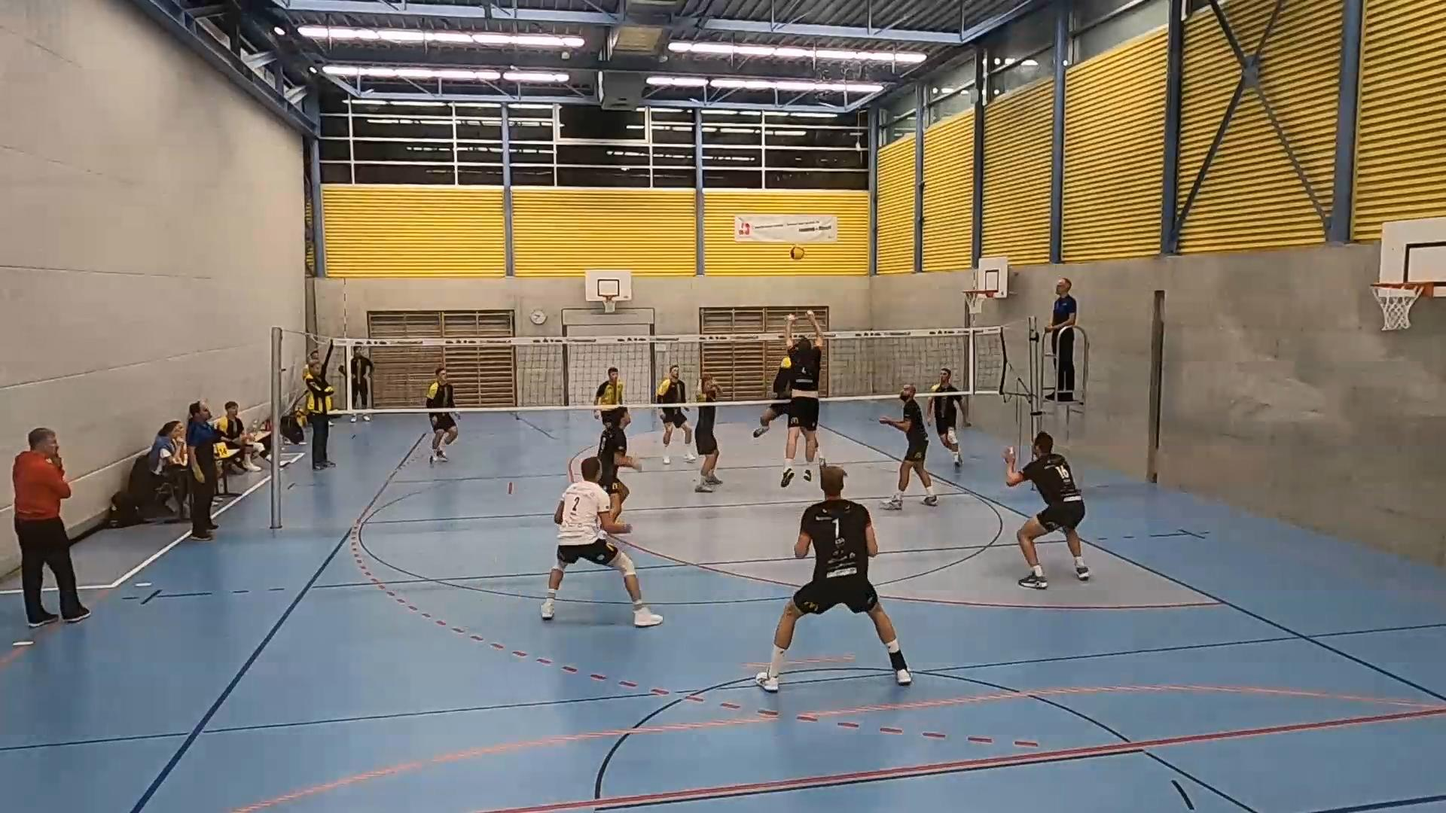attacco: (753, 329, 794, 444)
muro: (774, 308, 831, 482)
